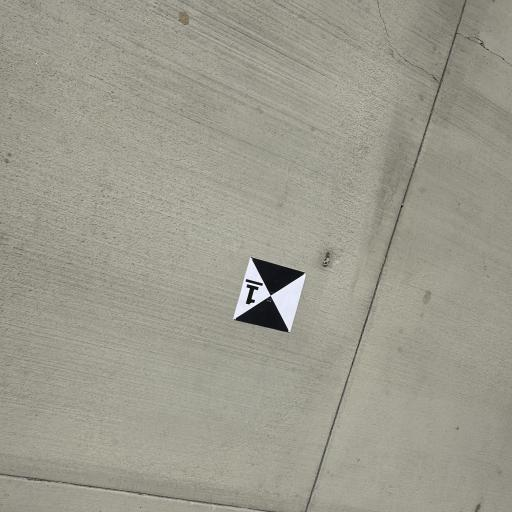target1: (228, 252, 312, 336)
